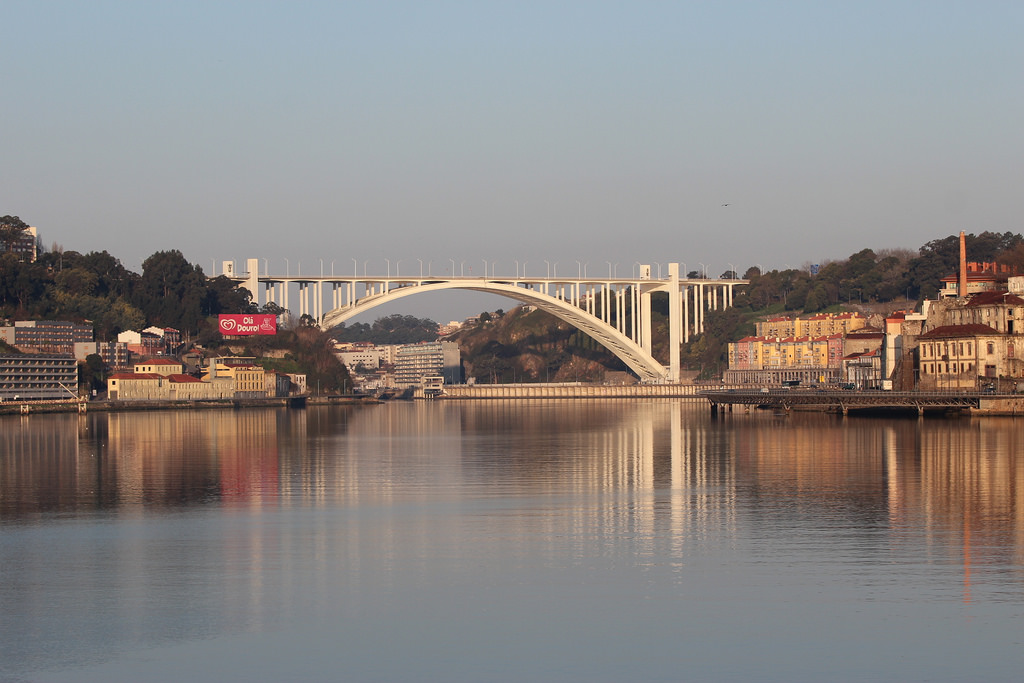arrabida: (211, 255, 752, 387)
